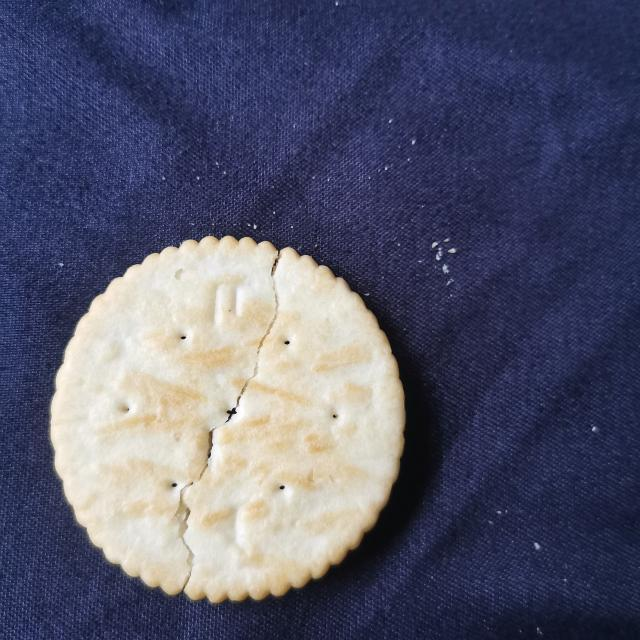Fracture: (147, 240, 305, 603)
